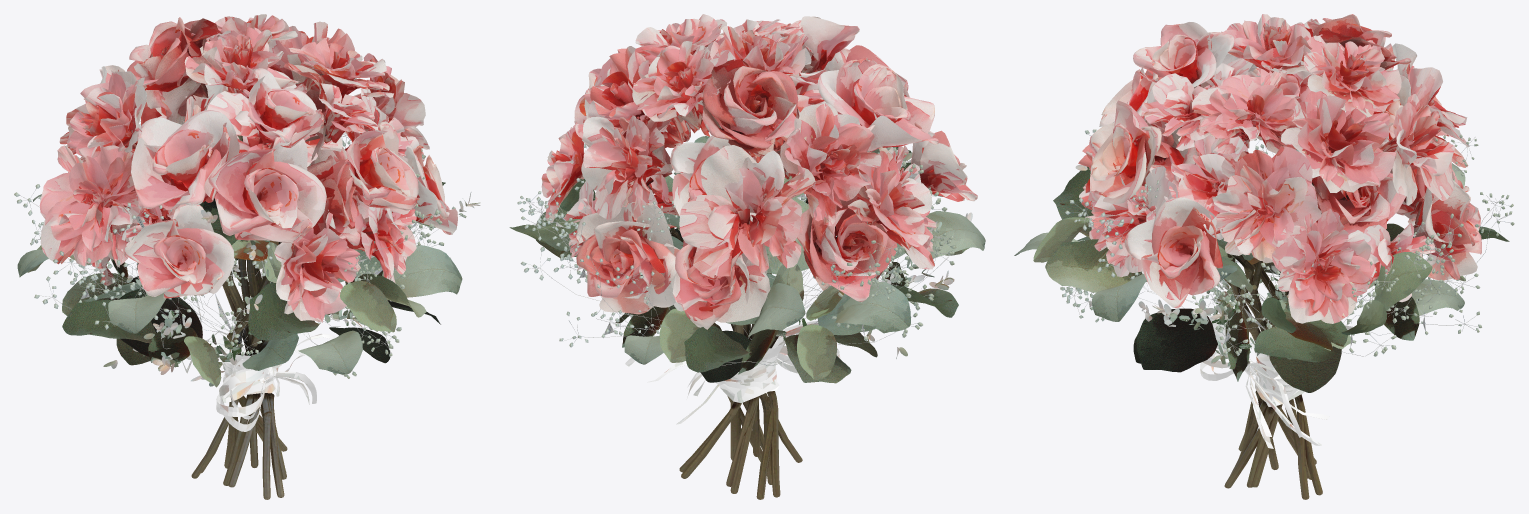
Rendered from flower_bouquet (1).glb.
3 renders of one model, left to right at view 1: azimuth 30°, elevation 25°; view 2: azimuth 150°, elevation 25°; view 3: azimuth 270°, elevation 25°, orthographic. The views are drawn at different scales.
Visible parts, largest first — view 1: Leaves_003, Leaves_002, Petal_010, Petal_005, Petal_012, Petal_004, Stems, Petal_022, Petal_019, Petal_002, Petal_008, Petal_025 (+25 smaller); view 2: Leaves_002, Petal_001, Petal_016, Petal_002, Petal_019, Petal_012, Petal_014, Petal_009, Stems, Petal_010, Petal_003, Petal_007 (+24 smaller); view 3: Leaves_003, Petal_017, Petal_018, Petal_015, Petal_021, Leaves_001, Petal_020, Stems, Petal_007, Petal_008, Petal_014, Petal_016 (+26 smaller).
Boxes of the visible parts, x1,y1,x2,y2 form: Leaves_003: [136, 198, 462, 374]; Leaves_002: [17, 194, 298, 387]; Petal_010: [39, 143, 138, 267]; Petal_005: [208, 132, 326, 243]; Petal_012: [131, 110, 239, 210]; Petal_004: [124, 204, 234, 298]; Stems: [191, 135, 287, 499]; Petal_022: [274, 209, 360, 322]; Petal_019: [127, 17, 222, 124]; Petal_002: [67, 70, 146, 162]; Petal_008: [346, 121, 418, 214]; Petal_025: [247, 68, 323, 149]; Leaves_002: [622, 197, 985, 383]; Petal_001: [679, 145, 815, 278]; Petal_016: [576, 202, 676, 314]; Petal_002: [780, 102, 881, 225]; Petal_019: [701, 59, 800, 155]; Petal_012: [817, 57, 938, 151]; Petal_014: [581, 115, 665, 220]; Petal_009: [797, 196, 897, 302]; Stems: [670, 198, 808, 499]; Petal_010: [847, 150, 936, 269]; Petal_003: [664, 212, 770, 329]; Petal_007: [632, 41, 735, 121]; Leaves_003: [1014, 166, 1341, 392]; Petal_017: [1209, 145, 1321, 263]; Petal_018: [1272, 208, 1375, 323]; Petal_015: [1281, 91, 1396, 192]; Petal_021: [1124, 197, 1222, 308]; Leaves_001: [1217, 238, 1432, 362]; Petal_020: [1192, 71, 1301, 153]; Stems: [1224, 182, 1376, 499]; Petal_007: [1303, 34, 1401, 117]; Petal_008: [1089, 100, 1161, 204]; Petal_014: [1380, 94, 1455, 205]; Petal_016: [1403, 180, 1481, 280].
Size of the model in its own units: 0.3586 by 0.3863 by 0.3838.
20 materials, 20 textured.
